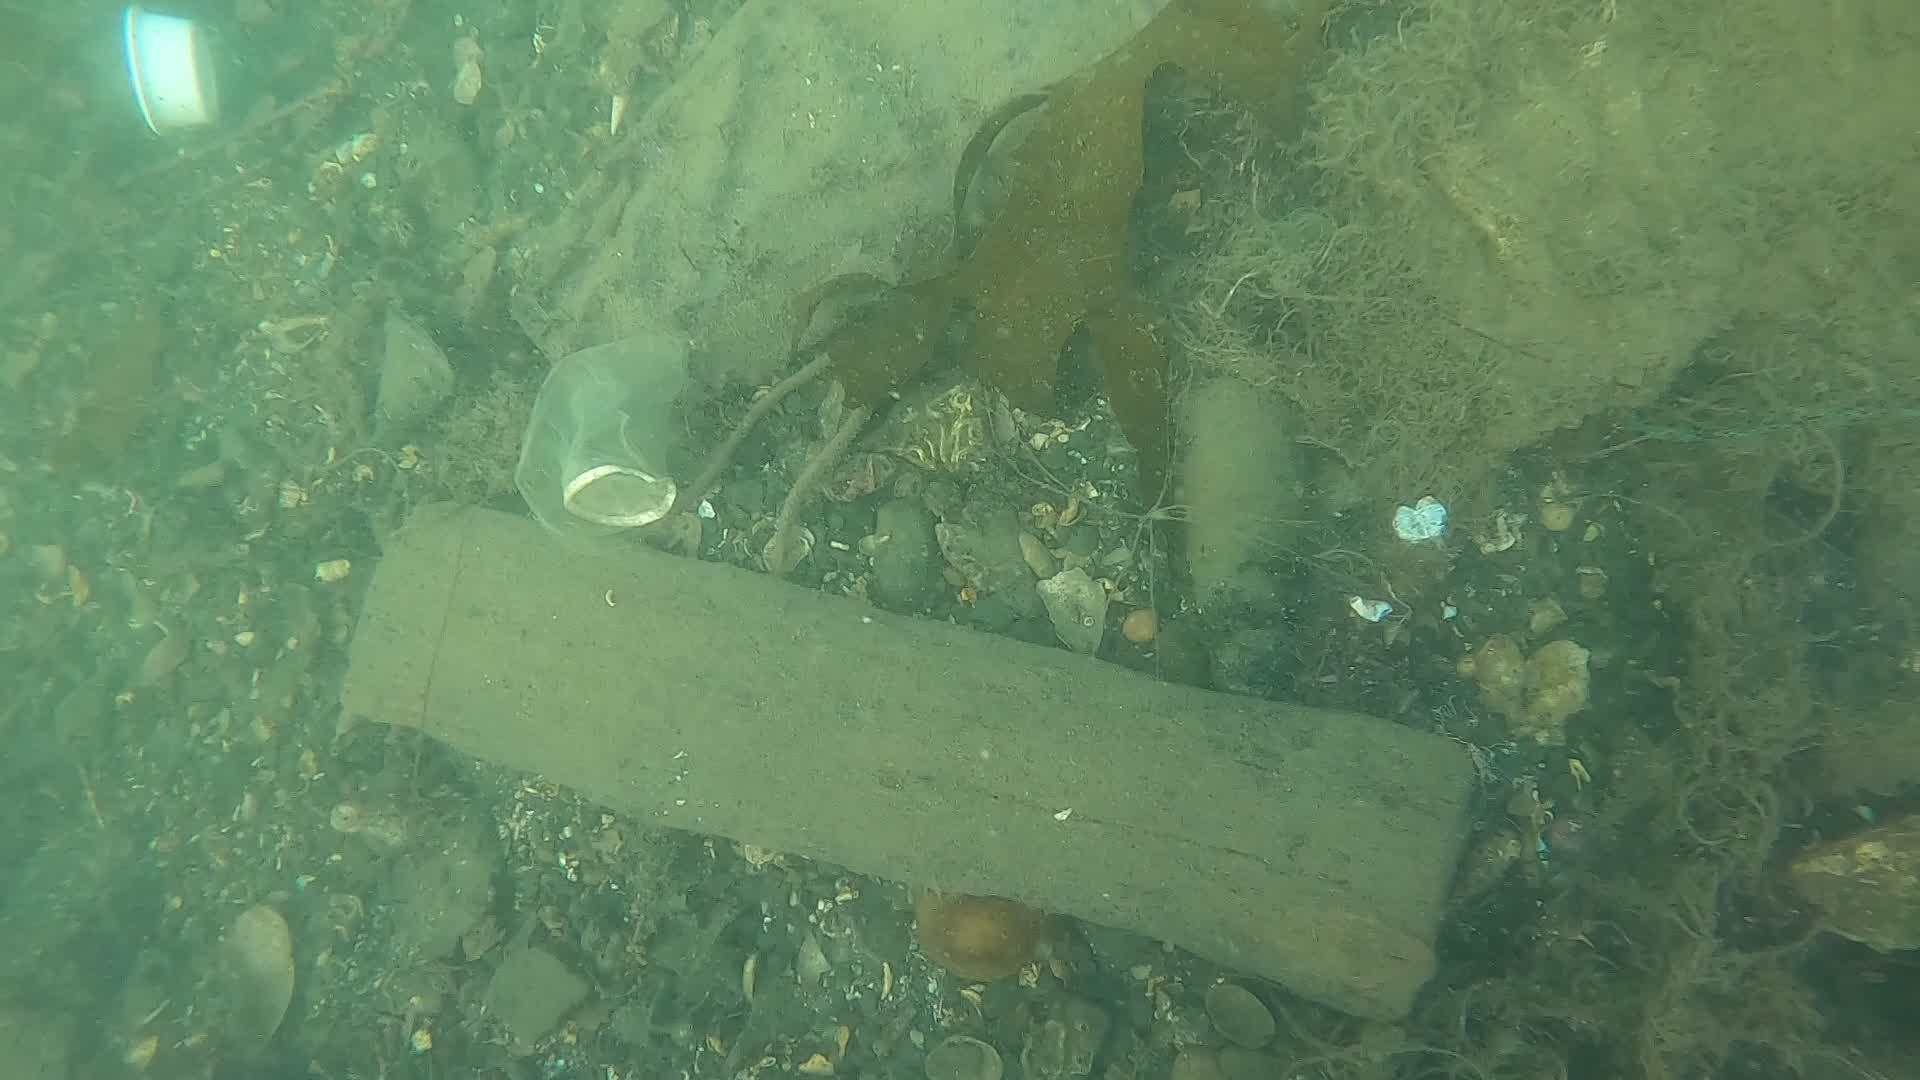wood: (328, 500, 1474, 1025)
